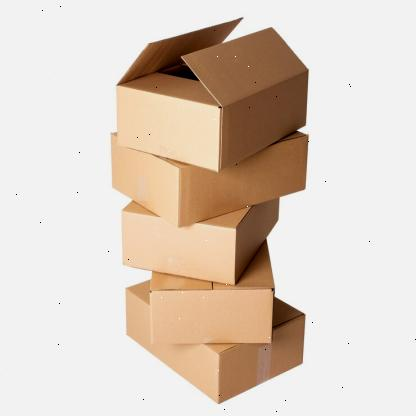box: (116, 86, 219, 172), (122, 212, 235, 286), (150, 288, 272, 344), (111, 134, 180, 228)
